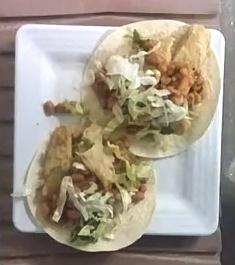taco: (14, 20, 219, 251)
